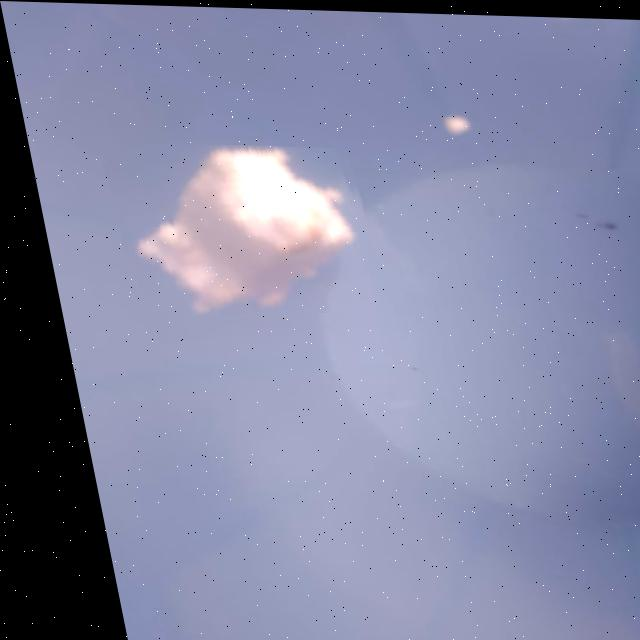litter: (97, 140, 384, 341)
